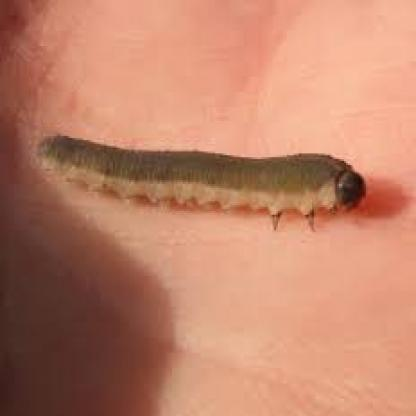sawfly: (33, 126, 373, 248)
